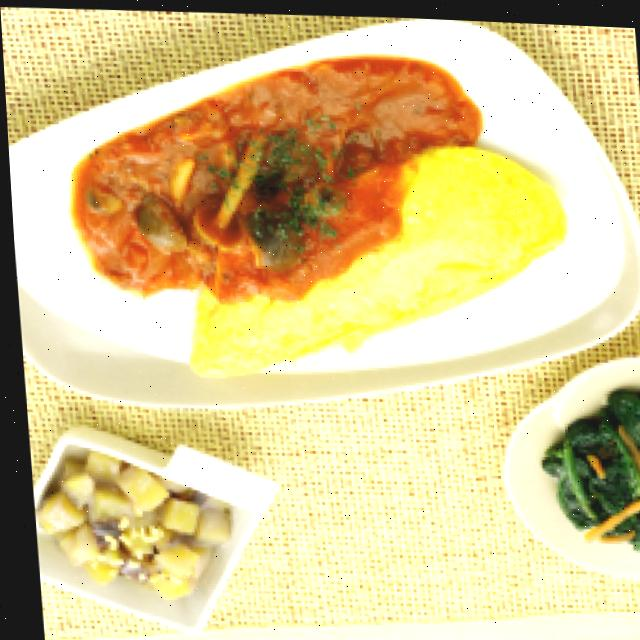鸡蛋料理: (100, 61, 600, 415)
